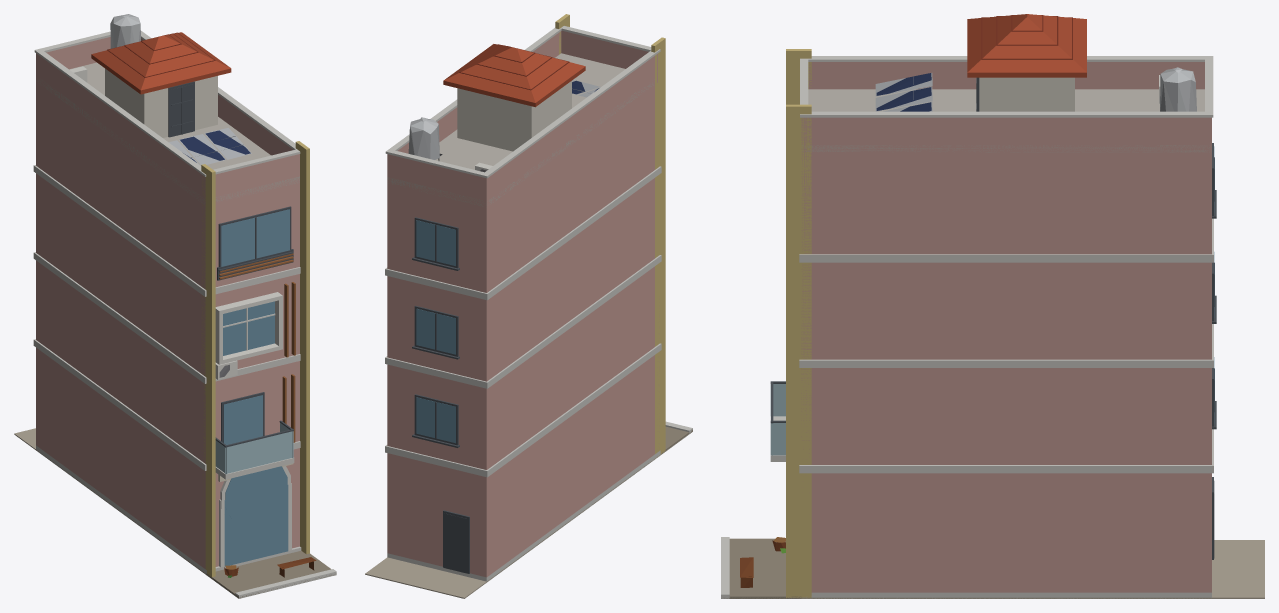
File: bay2_mid2.glb
3 renders of one model, left to right at view 1: azimuth 30°, elevation 25°; view 2: azimuth 150°, elevation 25°; view 3: azimuth 270°, elevation 25°, orthographic. The views are drawn at different scales.
Visible parts, largest first — view 1: body; view 2: body; view 3: body.
Part boxes in pixels (bbox=[...]): body: bbox=[14, 14, 336, 598]; body: bbox=[365, 14, 692, 598]; body: bbox=[721, 14, 1264, 598].
Bounding box in the file's own units: 4.12 × 18.27 × 15.9.
